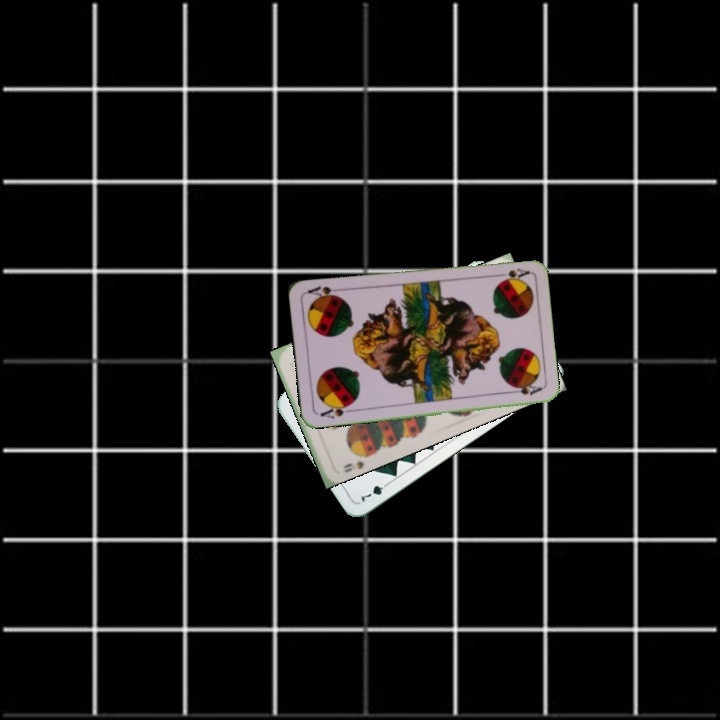G7: (356, 478, 393, 505)
S9: (339, 450, 372, 471)
SA: (317, 400, 355, 421), (491, 264, 531, 283)
